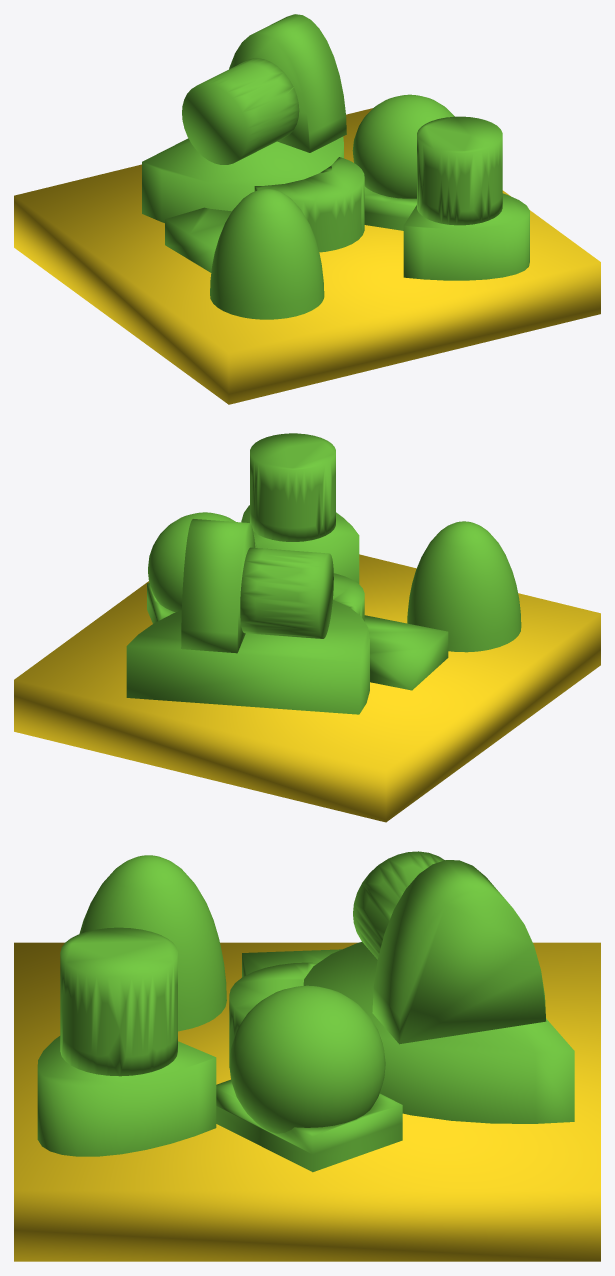
File: fragment_3.glb
3 renders of one model, top to bottom at view 1: azimuth 30°, elevation 25°; view 2: azimuth 150°, elevation 25°; view 3: azimuth 270°, elevation 25°, orthographic. The views are drawn at different scales.
Parts seen in each view (by area): view 1: figura, basetta; view 2: figura, basetta; view 3: figura, basetta.
Part boxes in pixels (x1=…): figura: x1=142, y1=14, x2=529, y2=319; basetta: x1=14, y1=108, x2=600, y2=404; figura: x1=126, y1=433, x2=521, y2=714; basetta: x1=14, y1=554, x2=600, y2=822; figura: x1=37, y1=851, x2=574, y2=1172; basetta: x1=14, y1=942, x2=600, y2=1261.
Bounding box in the file's own units: 0.015 × 0.008 × 0.015.
